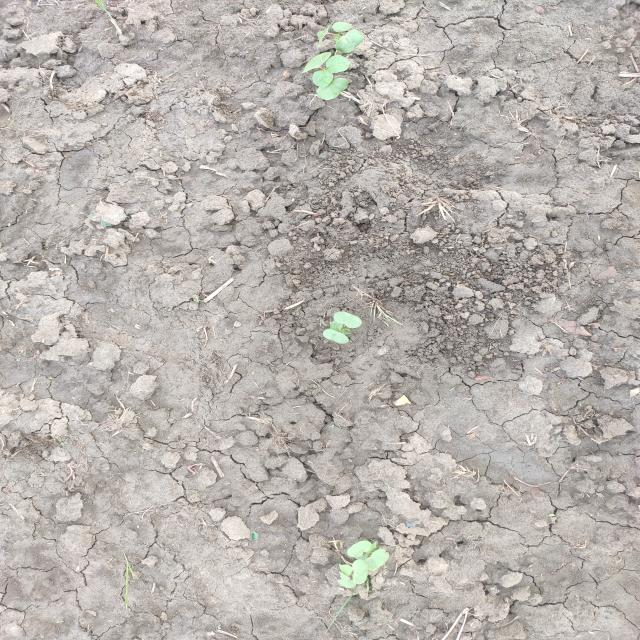seedling: (316, 78, 348, 101), (335, 29, 364, 53), (301, 52, 331, 73), (364, 548, 389, 572), (325, 55, 351, 74), (333, 311, 362, 328), (317, 21, 334, 48), (352, 559, 369, 584), (347, 540, 371, 557), (323, 329, 349, 344), (313, 70, 333, 89), (337, 572, 356, 588), (332, 22, 353, 32), (339, 564, 353, 576), (329, 321, 343, 331)
